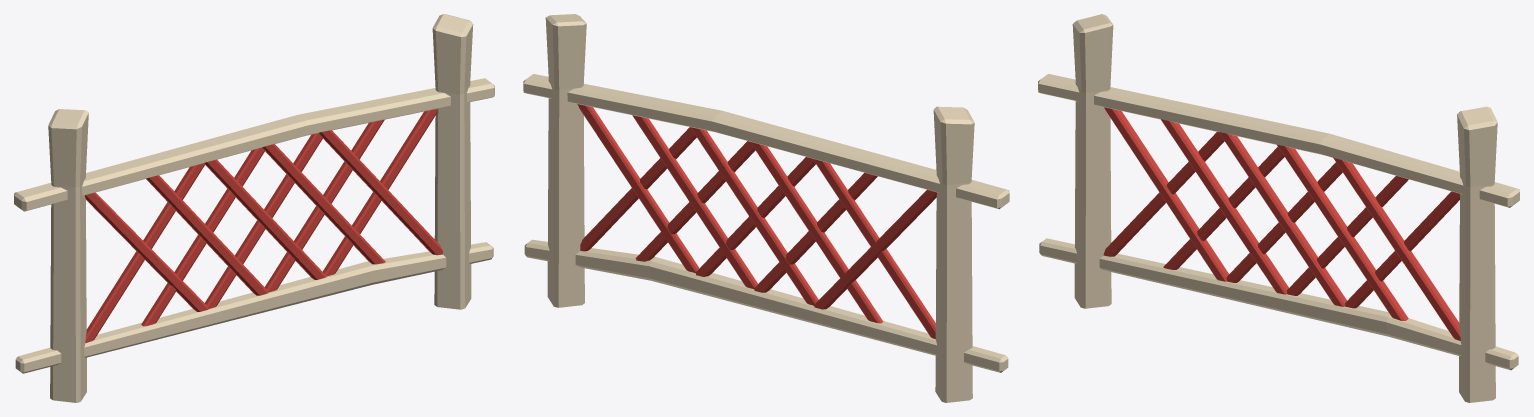
Rendered from fence_m.gltf.
The picture shows the model from 3 angles, left to right: view 1: azimuth 30°, elevation 25°; view 2: azimuth 150°, elevation 25°; view 3: azimuth 330°, elevation 25°; orthographic projection.
Parts seen in each view (by area): view 1: fence_m001; view 2: fence_m001; view 3: fence_m001.
Boxes of the visible parts, x1=… form: fence_m001: x1=14, y1=14, x2=494, y2=402; fence_m001: x1=523, y1=14, x2=1009, y2=402; fence_m001: x1=1038, y1=14, x2=1519, y2=402.
Size of the model in its own units: 1.41 by 0.802 by 0.1139.
Materials: 1 (1 with a texture image).
